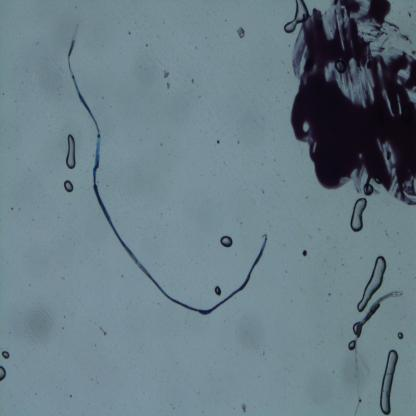Air bubble: (357, 258, 387, 311), (379, 348, 399, 414), (285, 0, 310, 32), (351, 198, 367, 234), (64, 134, 77, 170), (0, 347, 10, 363), (221, 236, 233, 249), (63, 179, 74, 193), (0, 365, 7, 382), (352, 320, 359, 336), (348, 338, 355, 352), (214, 286, 222, 296), (398, 332, 404, 340)
Background material: (22, 299, 70, 347), (98, 322, 110, 340), (236, 24, 246, 38), (162, 68, 171, 80), (188, 76, 197, 85), (241, 401, 247, 413), (165, 82, 173, 90), (302, 249, 307, 258), (327, 292, 332, 299), (216, 138, 220, 145)
Cotton: (67, 25, 268, 314), (351, 291, 404, 414)
Pen: (290, 0, 416, 205)
